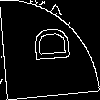D: (24, 25, 71, 64)
